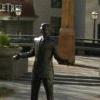Statue: (13, 10, 69, 94)
